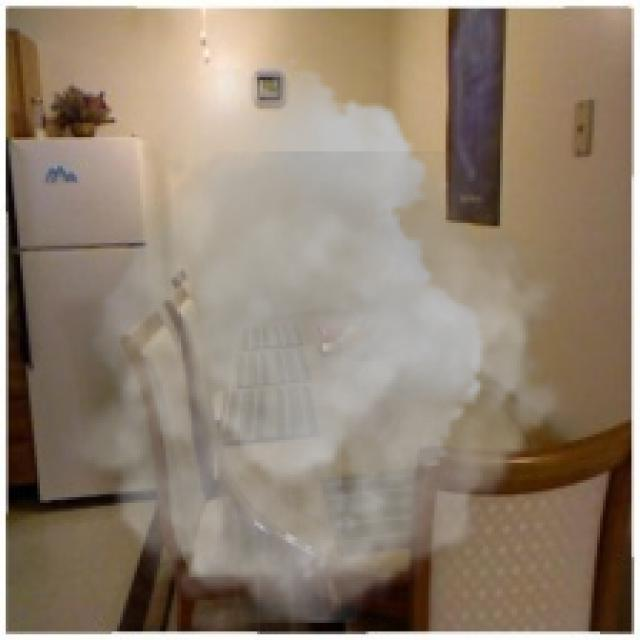smoke: (57, 57, 580, 623)
